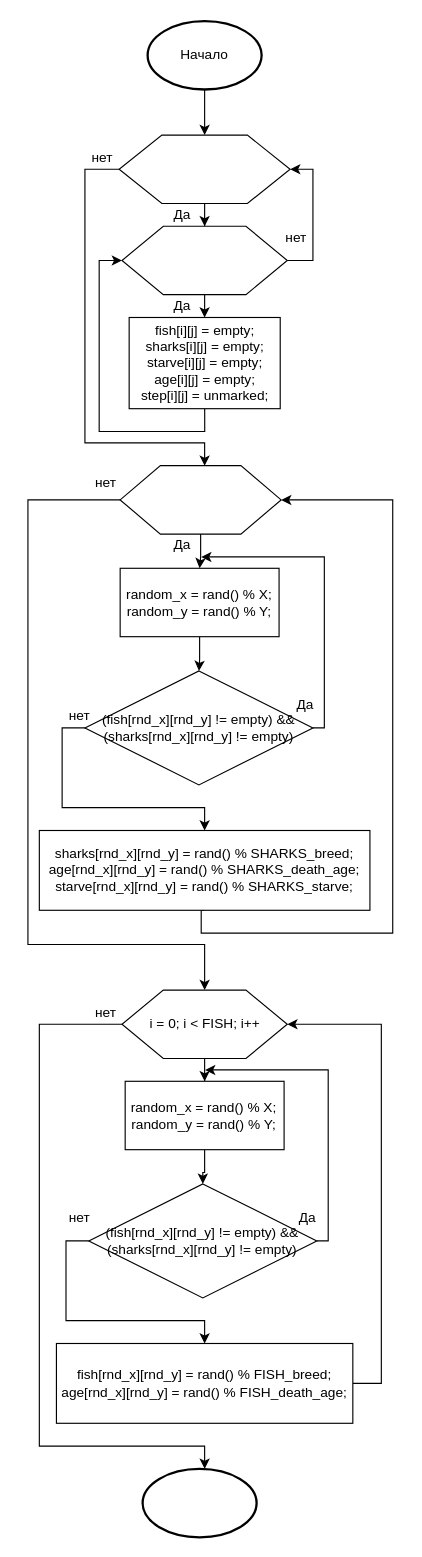
The diagram is 422 pixels wide and 1557 high, and some of its shapes have lost their labels. Each missing label, with the centre of its shape:
"i = 0; i < SHARKS; i++" goes at point 200,499.
"i = 0; i < X; i++" goes at point 204,168.
"j = 0; j < Y; j++" goes at point 204,260.
"Конец" goes at point 199,1502.
